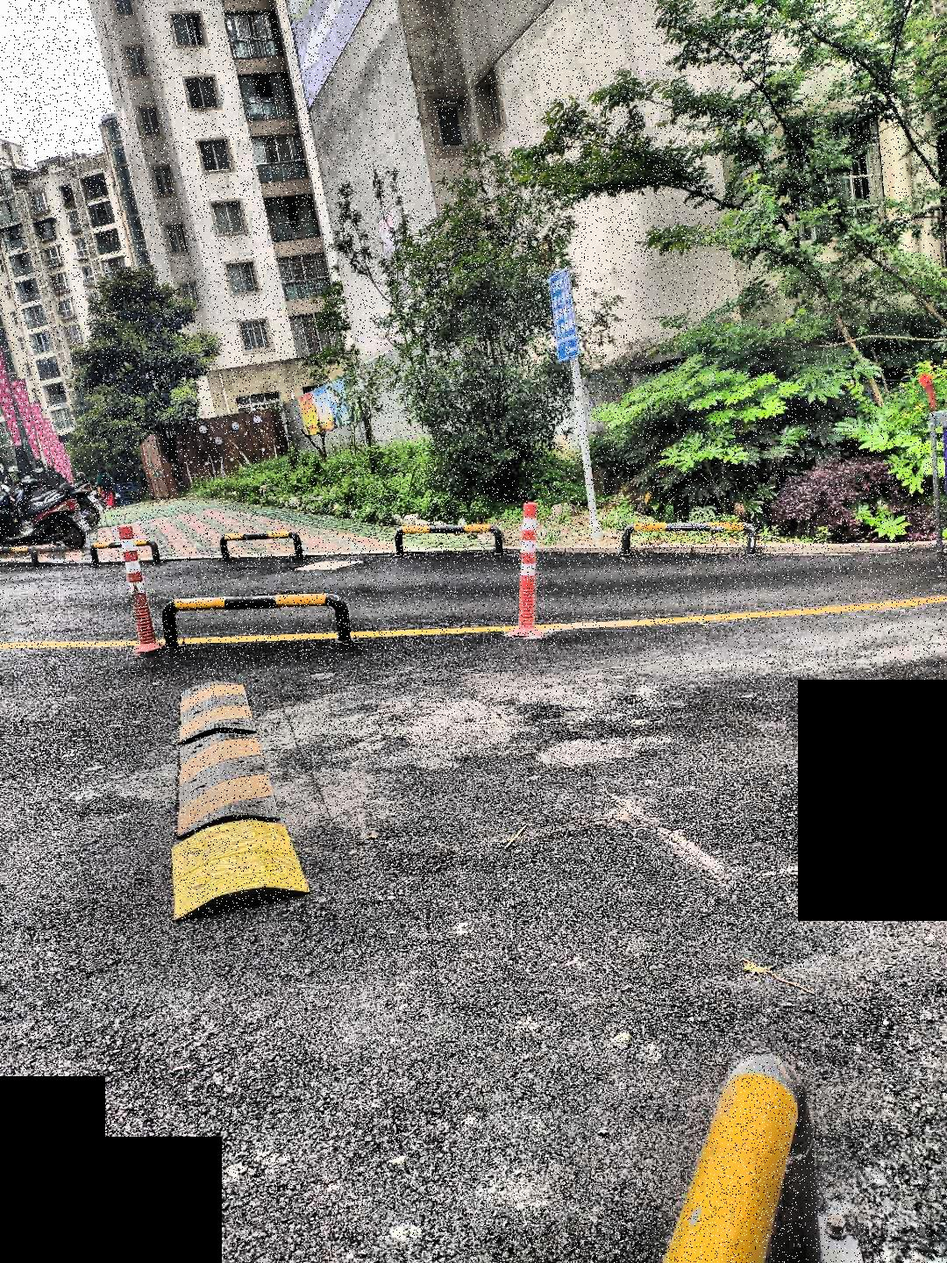bench: (504, 490, 552, 651)
can and bottle trash cans: (160, 580, 373, 662), (616, 511, 767, 567), (202, 519, 316, 567)
